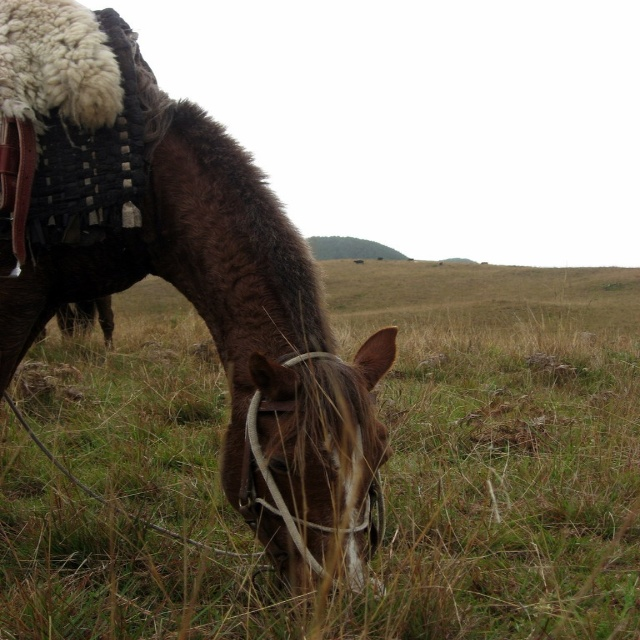Horse: (0, 0, 399, 622)
